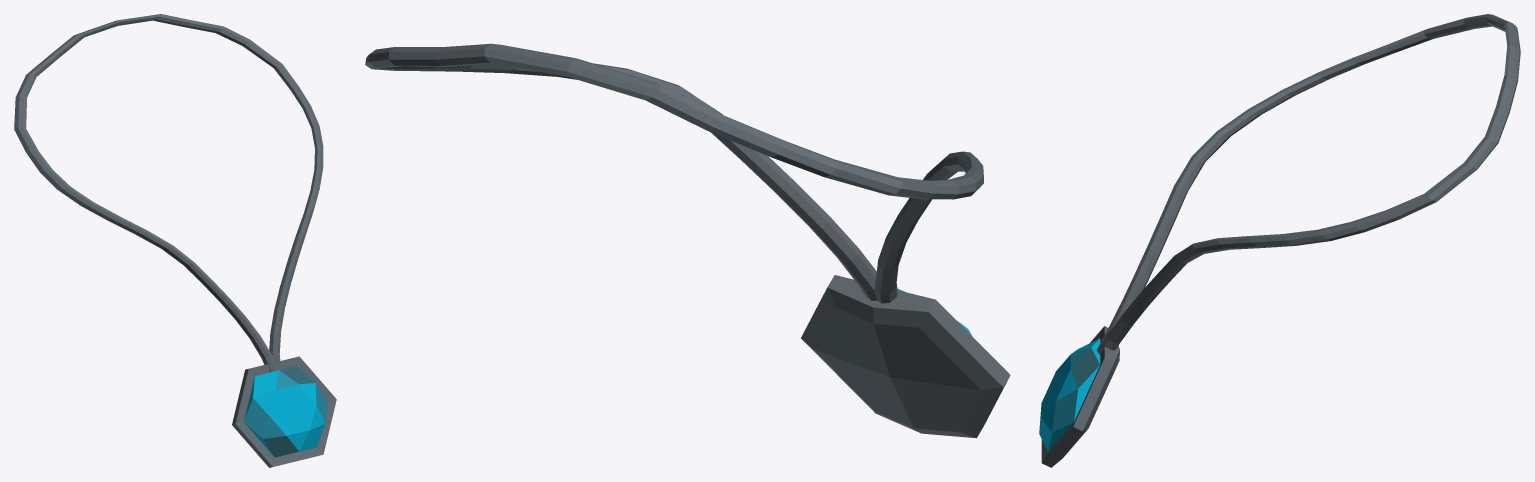
Rendered from collar de hierro .fbx.
3 views of the same model, side by side, from view 1: azimuth 30°, elevation 25°; view 2: azimuth 150°, elevation 25°; view 3: azimuth 270°, elevation 25° (orthographic). The views are drawn at different scales.
Parts seen in each view (by area): view 1: Cylinder; view 2: Cylinder; view 3: Cylinder.
Boxes of the visible parts, box(x1,y1,x2,y2) form: Cylinder: box(14, 14, 336, 467); Cylinder: box(365, 43, 1010, 438); Cylinder: box(1039, 14, 1520, 467).
Bounding box in the file's own units: 36.69 × 40.56 × 43.19.
